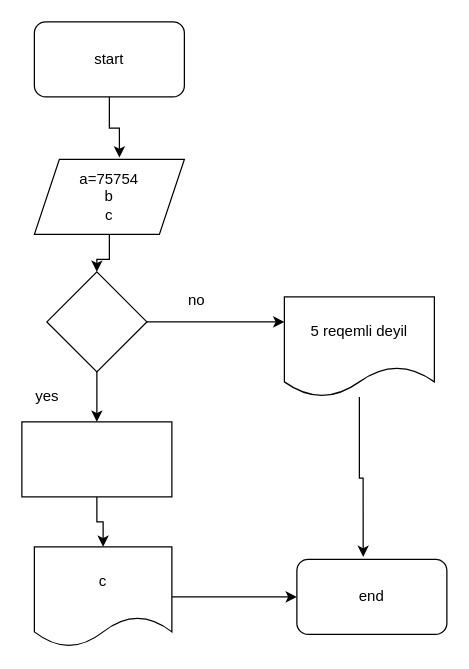
The diagram is 469 pixels wide and 669 high, and some of its shapes have lost their labels. Here are the shapes that lost their labels. From the top down, the centre of each, then its label:
At point (96, 321): "a>9999 and a<100000".
At point (96, 459): "b=a*18/100 c=b*3/100".
